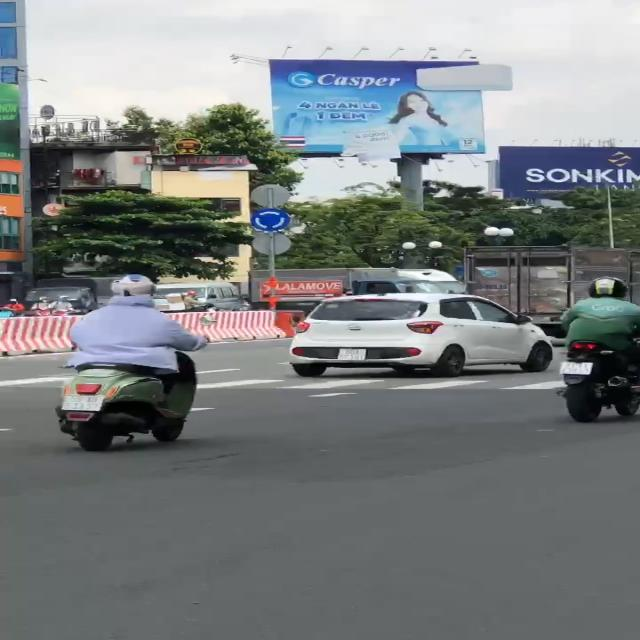Bien bao noi giao nhau chay theo vong xuyen: (246, 207, 294, 231)
